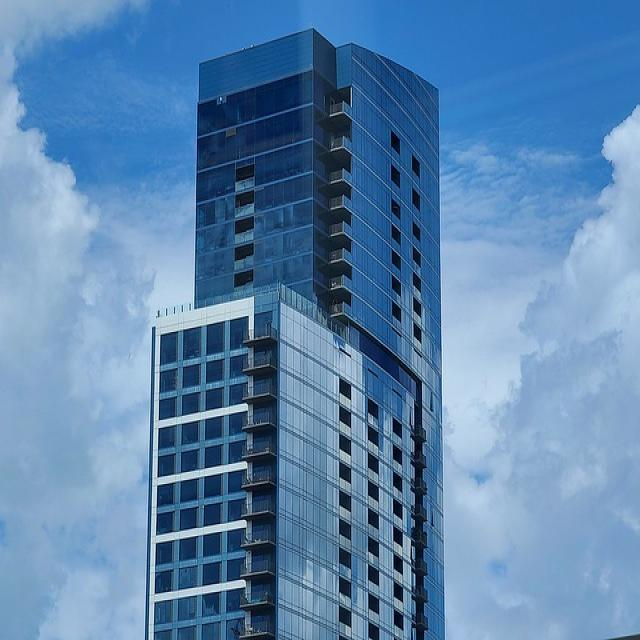building: (138, 22, 449, 640)
